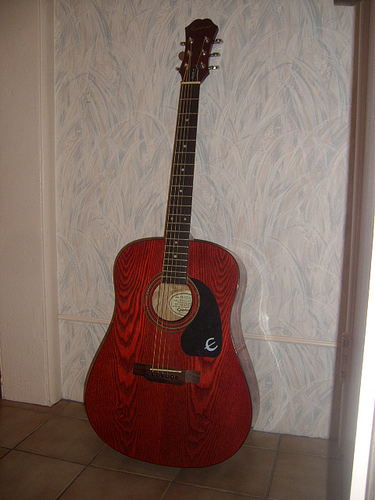guitar: (82, 14, 261, 471)
